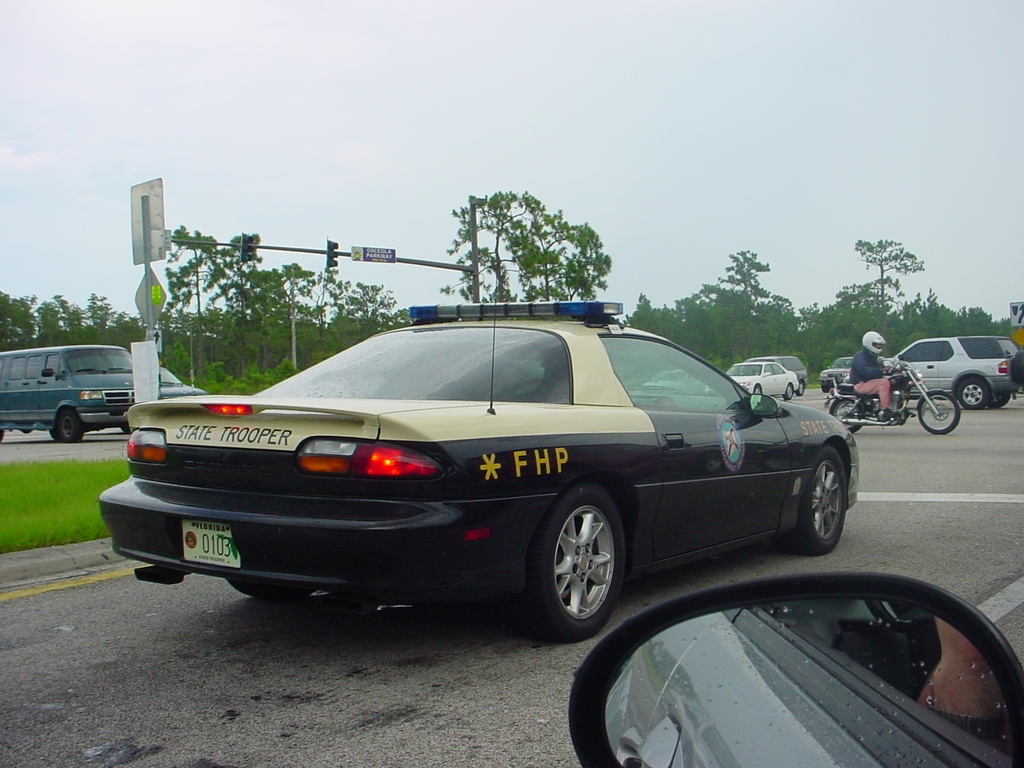Car: (115, 313, 850, 635), (889, 336, 1023, 410), (643, 357, 806, 396), (159, 363, 203, 400), (821, 357, 844, 391)
